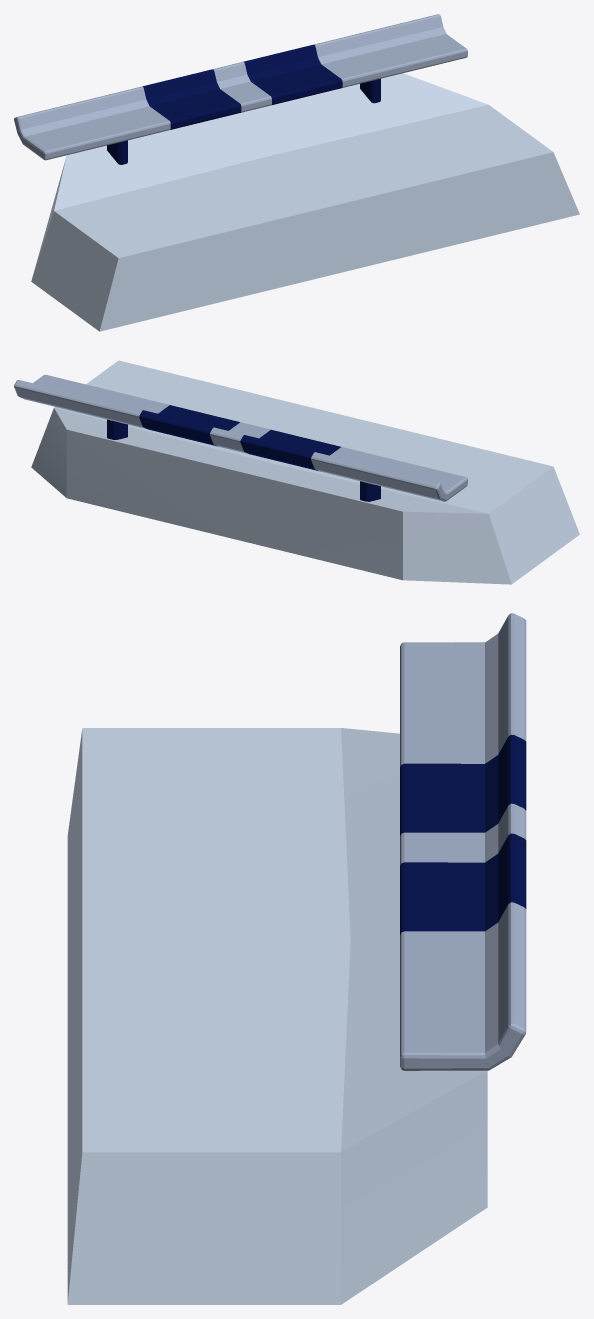
Rendered from Spoiler2.fbx.
3 renders of one model, top to bottom at view 1: azimuth 30°, elevation 25°; view 2: azimuth 150°, elevation 25°; view 3: azimuth 270°, elevation 25°, orthographic. The views are drawn at different scales.
Visible parts, largest first — view 1: Spoiler.001; view 2: Spoiler.001; view 3: Spoiler.001.
Boxes of the visible parts, x1,y1,x2,y2 form: Spoiler.001: [14, 14, 579, 331]; Spoiler.001: [14, 360, 579, 584]; Spoiler.001: [67, 613, 526, 1304].
Size of the model in its own units: 2.43 by 0.6088 by 1.
